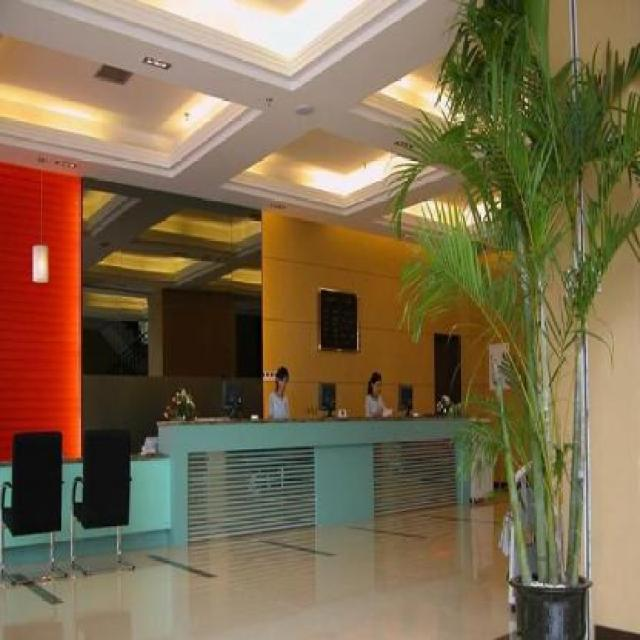frontdesk: (0, 392, 498, 591)
